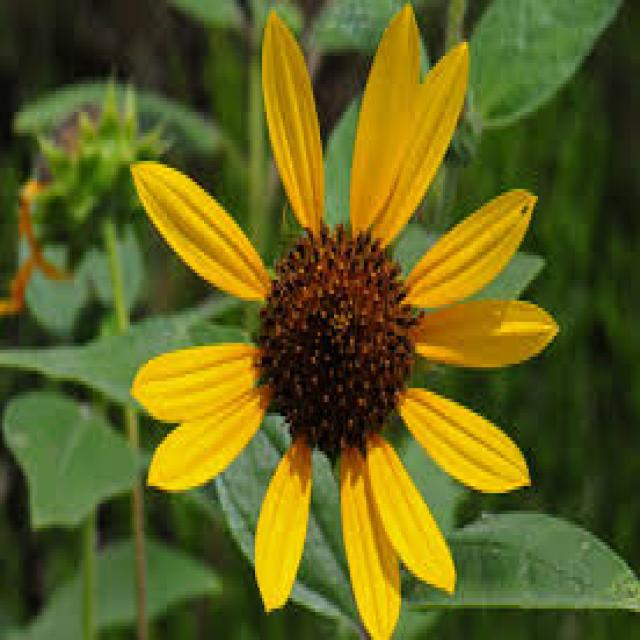sunflower: (124, 3, 560, 640)
